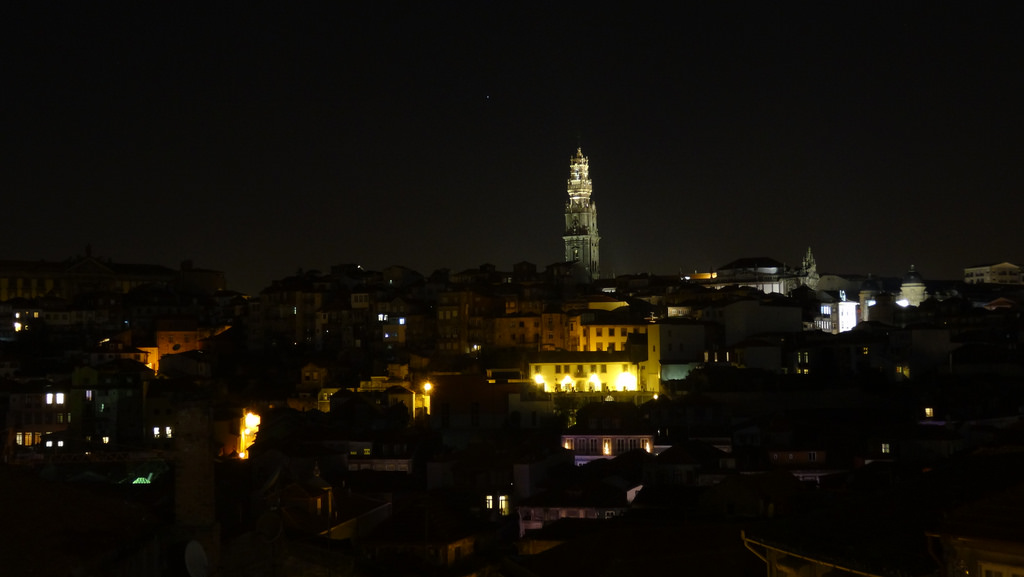clerigos: (557, 143, 604, 279)
